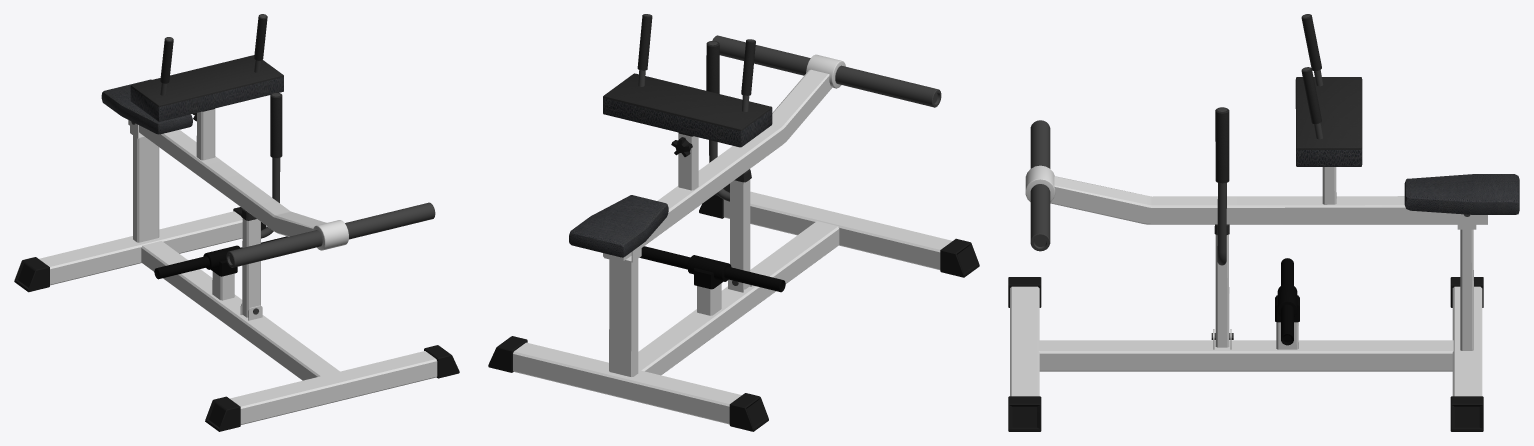
File: Trainer_6.FBX
3 views of the same model, side by side, from view 1: azimuth 30°, elevation 25°; view 2: azimuth 150°, elevation 25°; view 3: azimuth 270°, elevation 25° (orthographic). The views are drawn at different scales.
Parts seen in each view (by area): view 1: Body, 1, 2, 4, 3; view 2: Body, 1, 2, 4, 3; view 3: Body, 1, 2, 3, 4.
Part boxes in pixels (x1,y1,x2,y2): Body: (14, 121, 459, 431); 1: (101, 79, 326, 236); 2: (130, 14, 283, 121); 4: (226, 202, 435, 267); 3: (241, 92, 282, 317); Body: (488, 183, 979, 431); 1: (569, 69, 831, 262); 2: (603, 14, 772, 147); 4: (712, 35, 941, 107); 3: (706, 41, 751, 289); Body: (1008, 214, 1483, 431); 1: (1050, 167, 1519, 224); 2: (1295, 14, 1362, 166); 3: (1211, 107, 1233, 347); 4: (1025, 120, 1055, 251).
Size of the model in its own units: 0.8377 by 1.33 by 0.9317.
